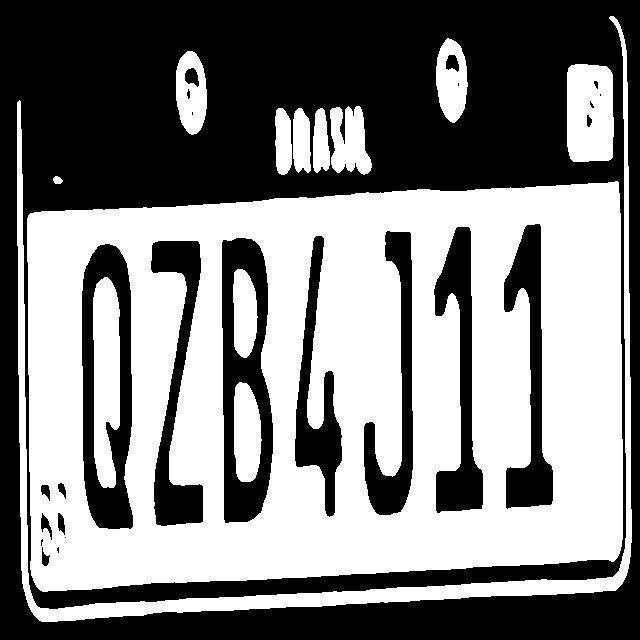1: (491, 220, 564, 511), (418, 226, 492, 510)
4: (288, 226, 350, 520)
b: (210, 234, 278, 524)
j: (353, 228, 417, 516)
q: (70, 247, 142, 528)
z: (138, 243, 208, 526)
